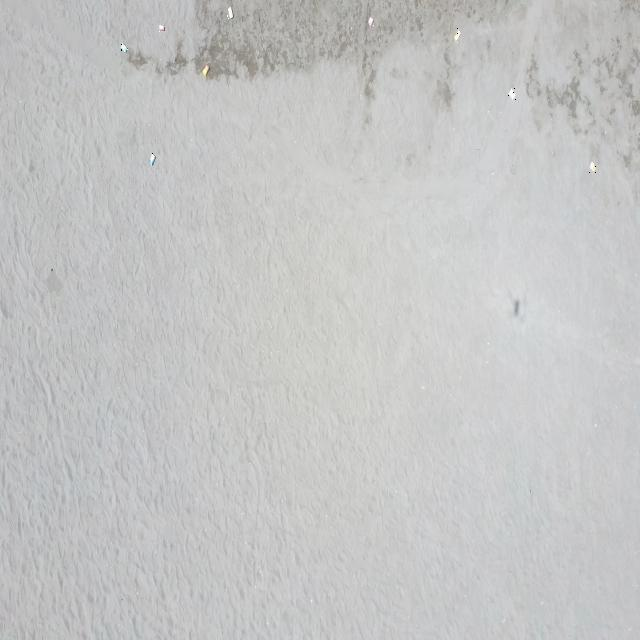Garbage: (148, 152, 155, 166), (200, 64, 208, 76), (507, 88, 515, 100), (453, 27, 460, 40), (588, 160, 595, 172), (227, 5, 232, 19), (120, 43, 127, 51), (367, 16, 372, 27), (159, 24, 163, 31)
